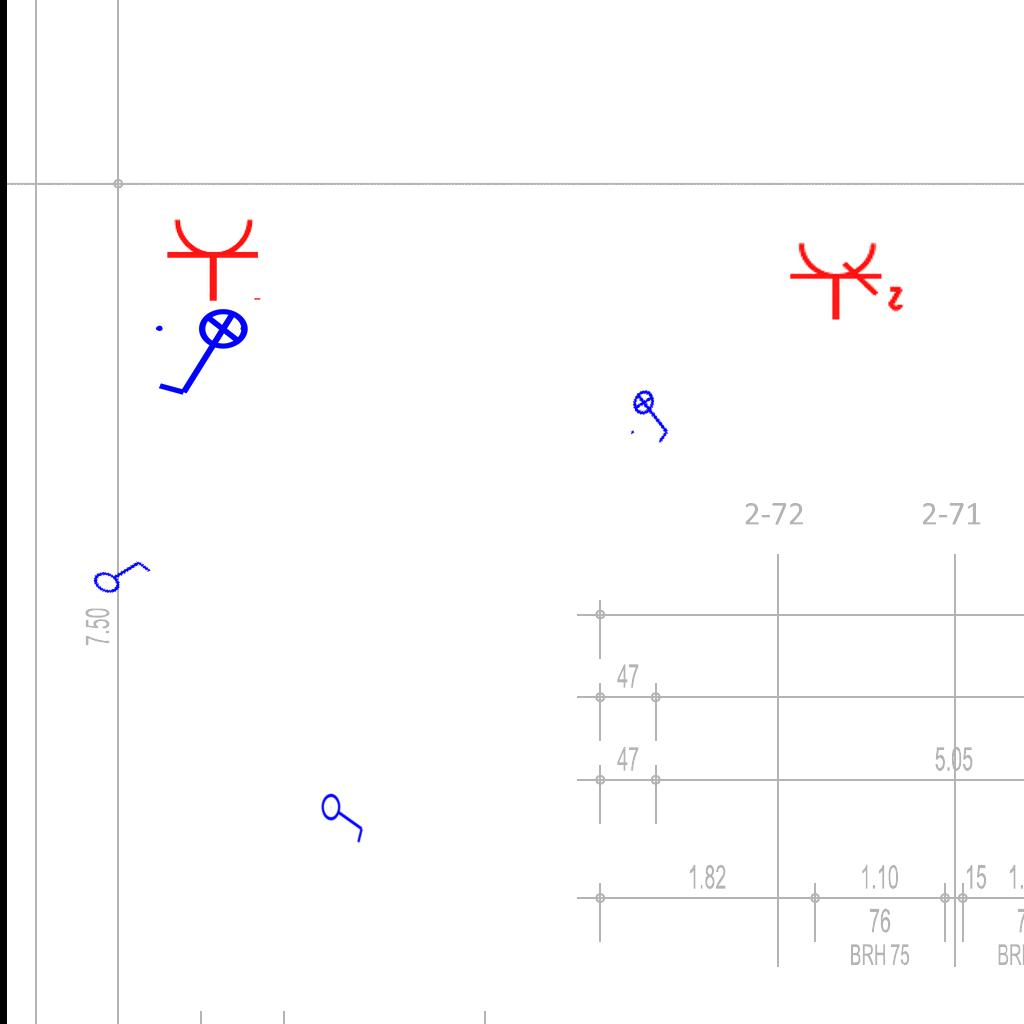Ausschalter: (84, 540, 156, 608), (320, 788, 368, 844)
Ausschalter_beleuchtet: (150, 307, 262, 403), (620, 380, 686, 450)
Schukosteckdose_einfach: (165, 216, 265, 303)
Schukosteckdose_mehrfach: (785, 238, 906, 326)
